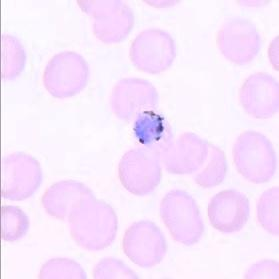Infected: (131, 109, 169, 148)
Uninfected: (67, 195, 117, 250), (159, 189, 205, 244), (232, 130, 275, 184), (41, 180, 93, 222), (129, 29, 176, 74), (42, 52, 86, 100), (0, 151, 43, 200), (109, 78, 158, 121), (161, 132, 209, 175), (215, 20, 260, 65), (117, 149, 162, 194), (123, 221, 167, 267), (206, 189, 250, 233), (187, 144, 228, 188), (239, 73, 279, 118), (91, 2, 132, 43), (0, 204, 29, 242)
